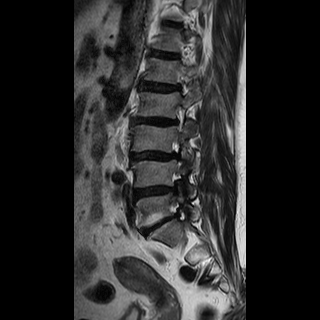LFS0: (166, 102, 189, 134)
